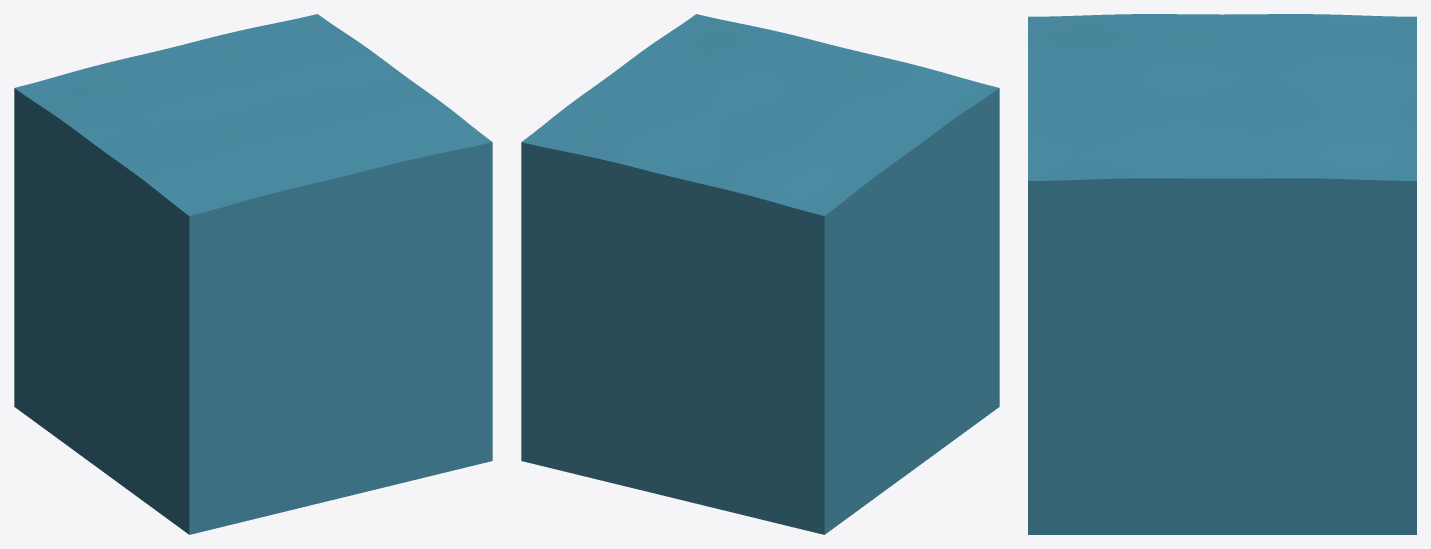
File: slpool_wave56.glb
The picture shows the model from 3 angles, left to right: view 1: azimuth 30°, elevation 25°; view 2: azimuth 150°, elevation 25°; view 3: azimuth 270°, elevation 25°; orthographic projection. The views are drawn at different scales.
Parts seen in each view (by area): view 1: poolWater; view 2: poolWater; view 3: poolWater.
Part boxes in pixels (x1=…): poolWater: x1=14, y1=14, x2=492, y2=534; poolWater: x1=521, y1=14, x2=999, y2=534; poolWater: x1=1028, y1=14, x2=1416, y2=534.
Bounding box in the file's own units: 2 × 2.04 × 2.
